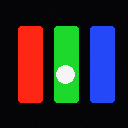2 circle: (56, 65, 74, 83)
